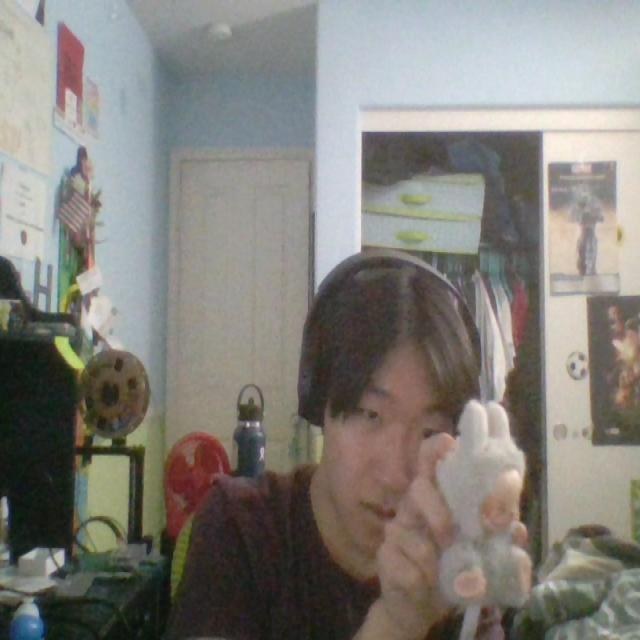labubu: (437, 401, 530, 607)
